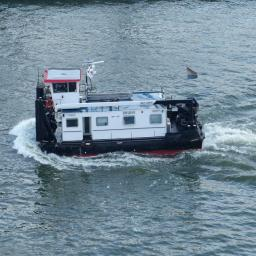tugboat: (32, 57, 209, 161)
